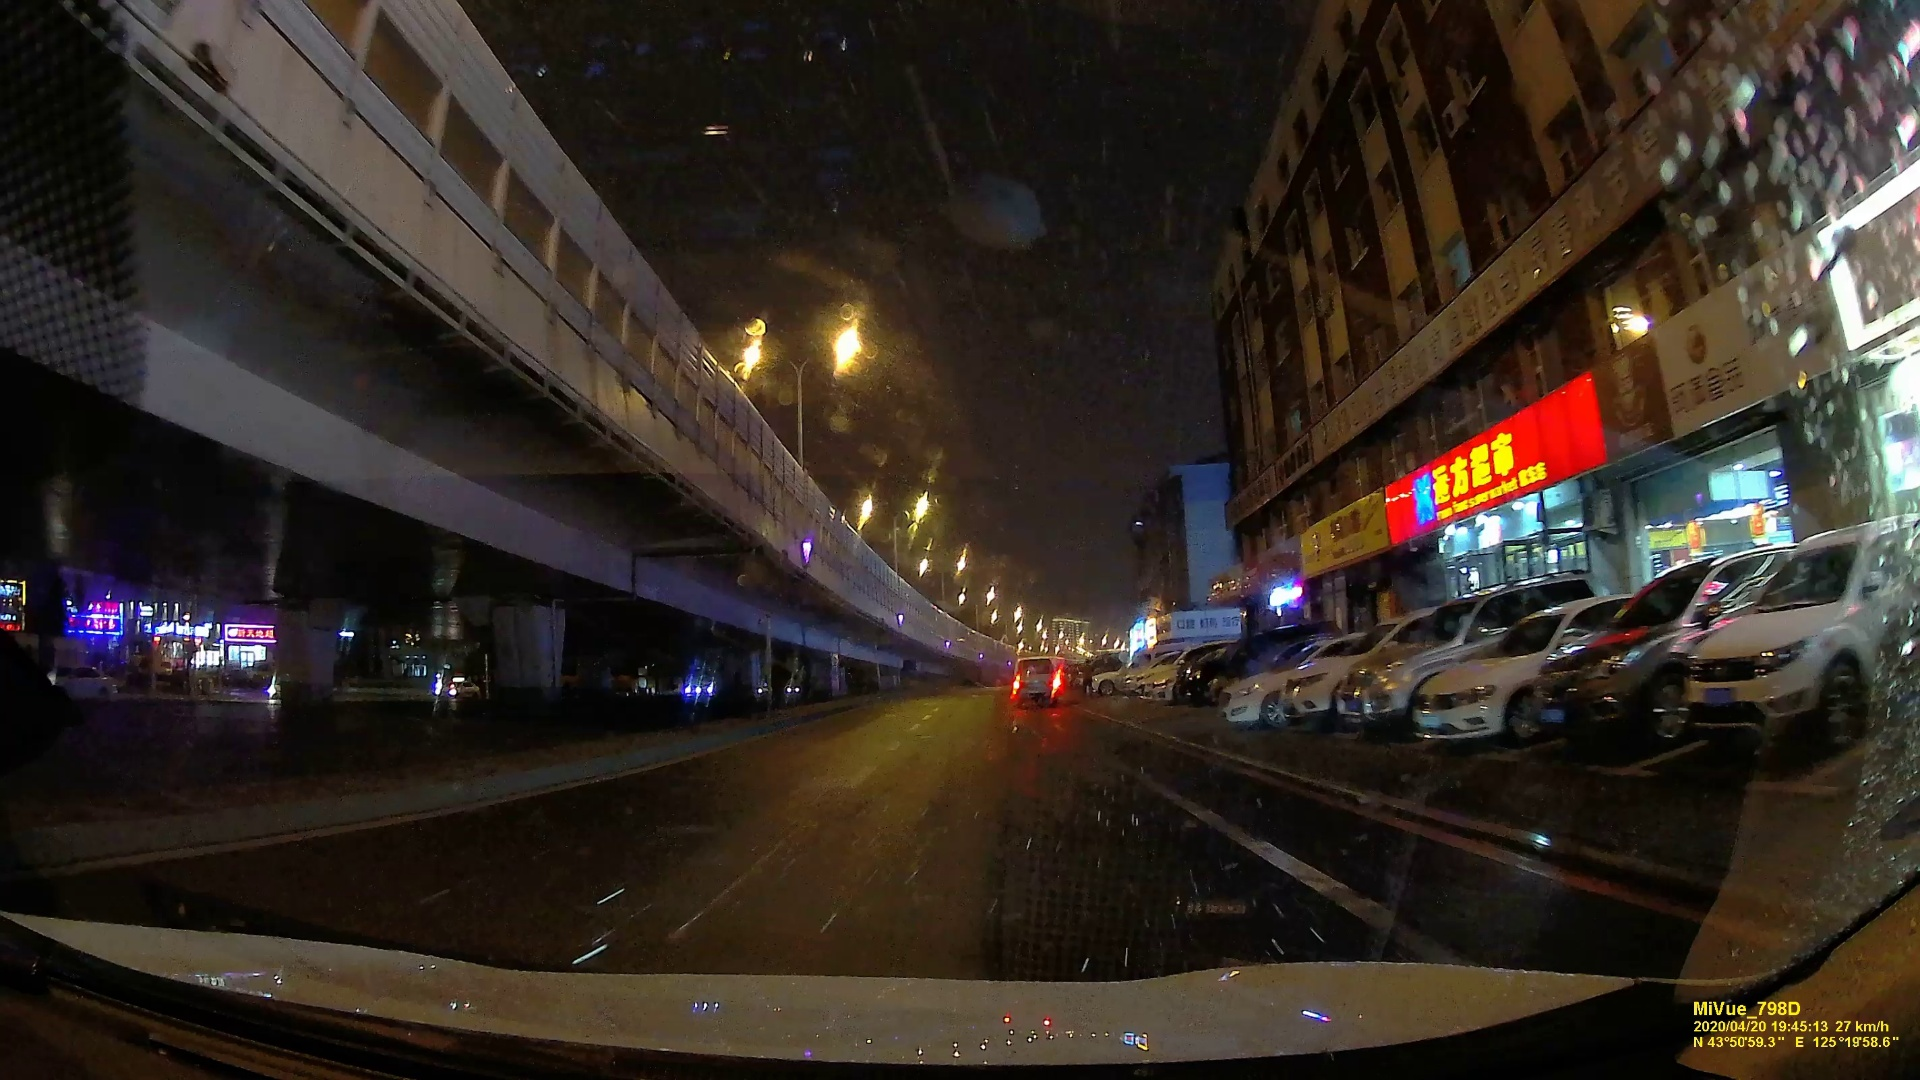minibus: (1698, 516, 1920, 748), (1010, 655, 1064, 705)
person: (1079, 657, 1095, 695)
vehicle: (1415, 612, 1561, 737), (434, 675, 479, 699)
